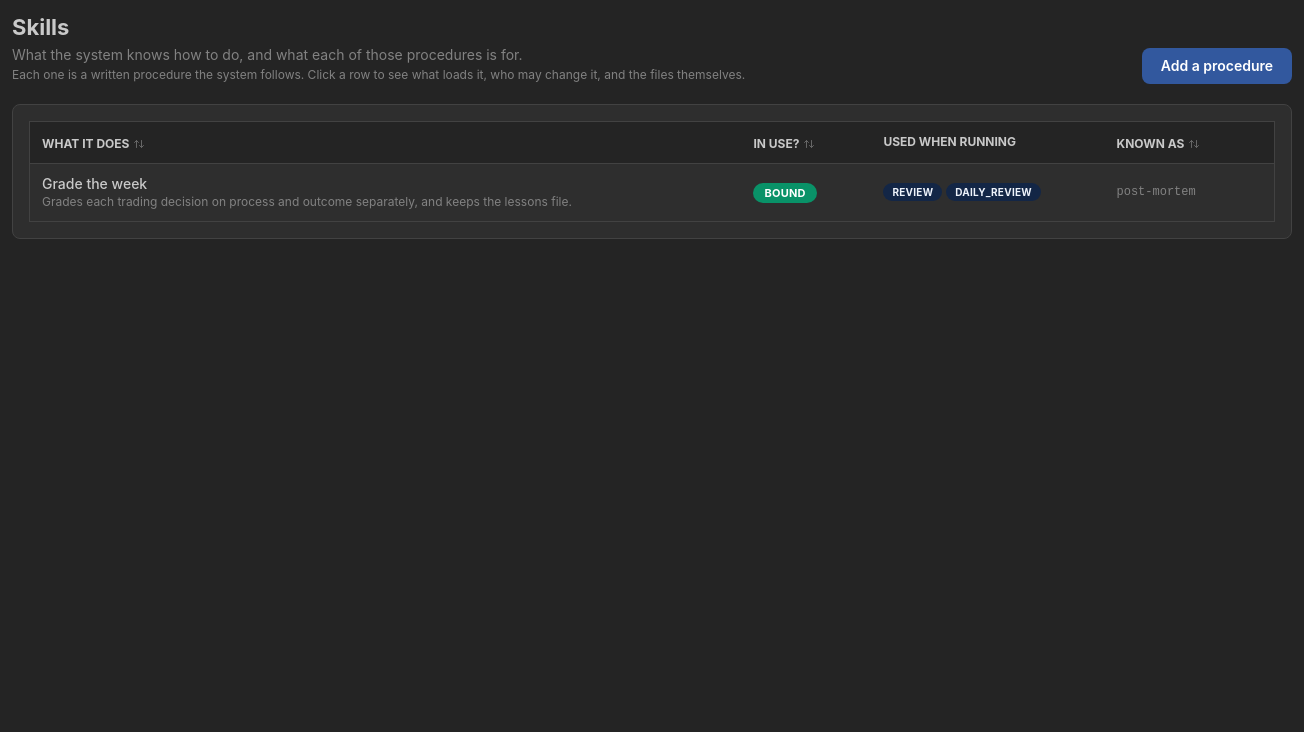
Test case: SkillsPage checks run as jobs › starts a lint job, follows it and shows the findings only when it ends
Click the text "Grade the week": (95, 183) [42,175,147,192]
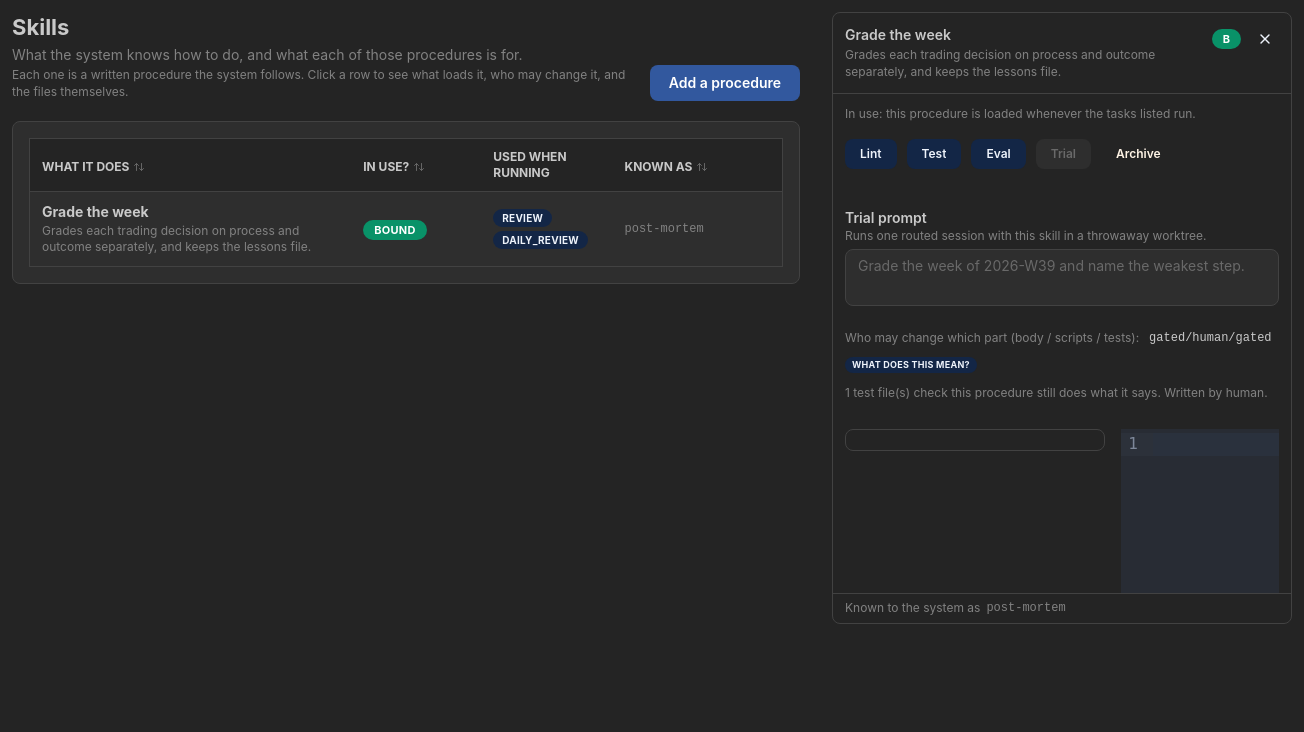
Click the button "Lint": (871, 154) [845,139,896,169]
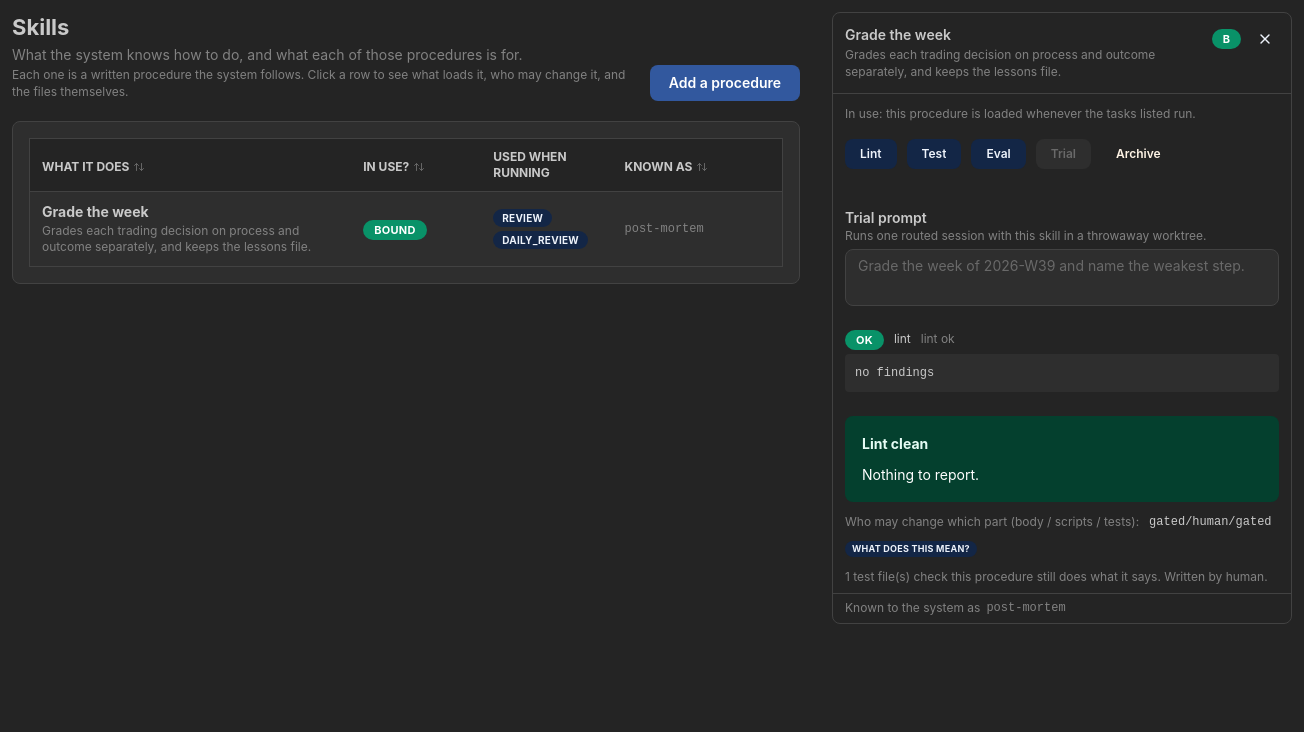
Result: the text "Lint clean" is shown at [862,434,928,455]
Result: the element with test id "check-progress" shows "ok" at [856,333,873,347]
Result: the text with test id "check-output" reads "no findings" at [855,366,934,380]
